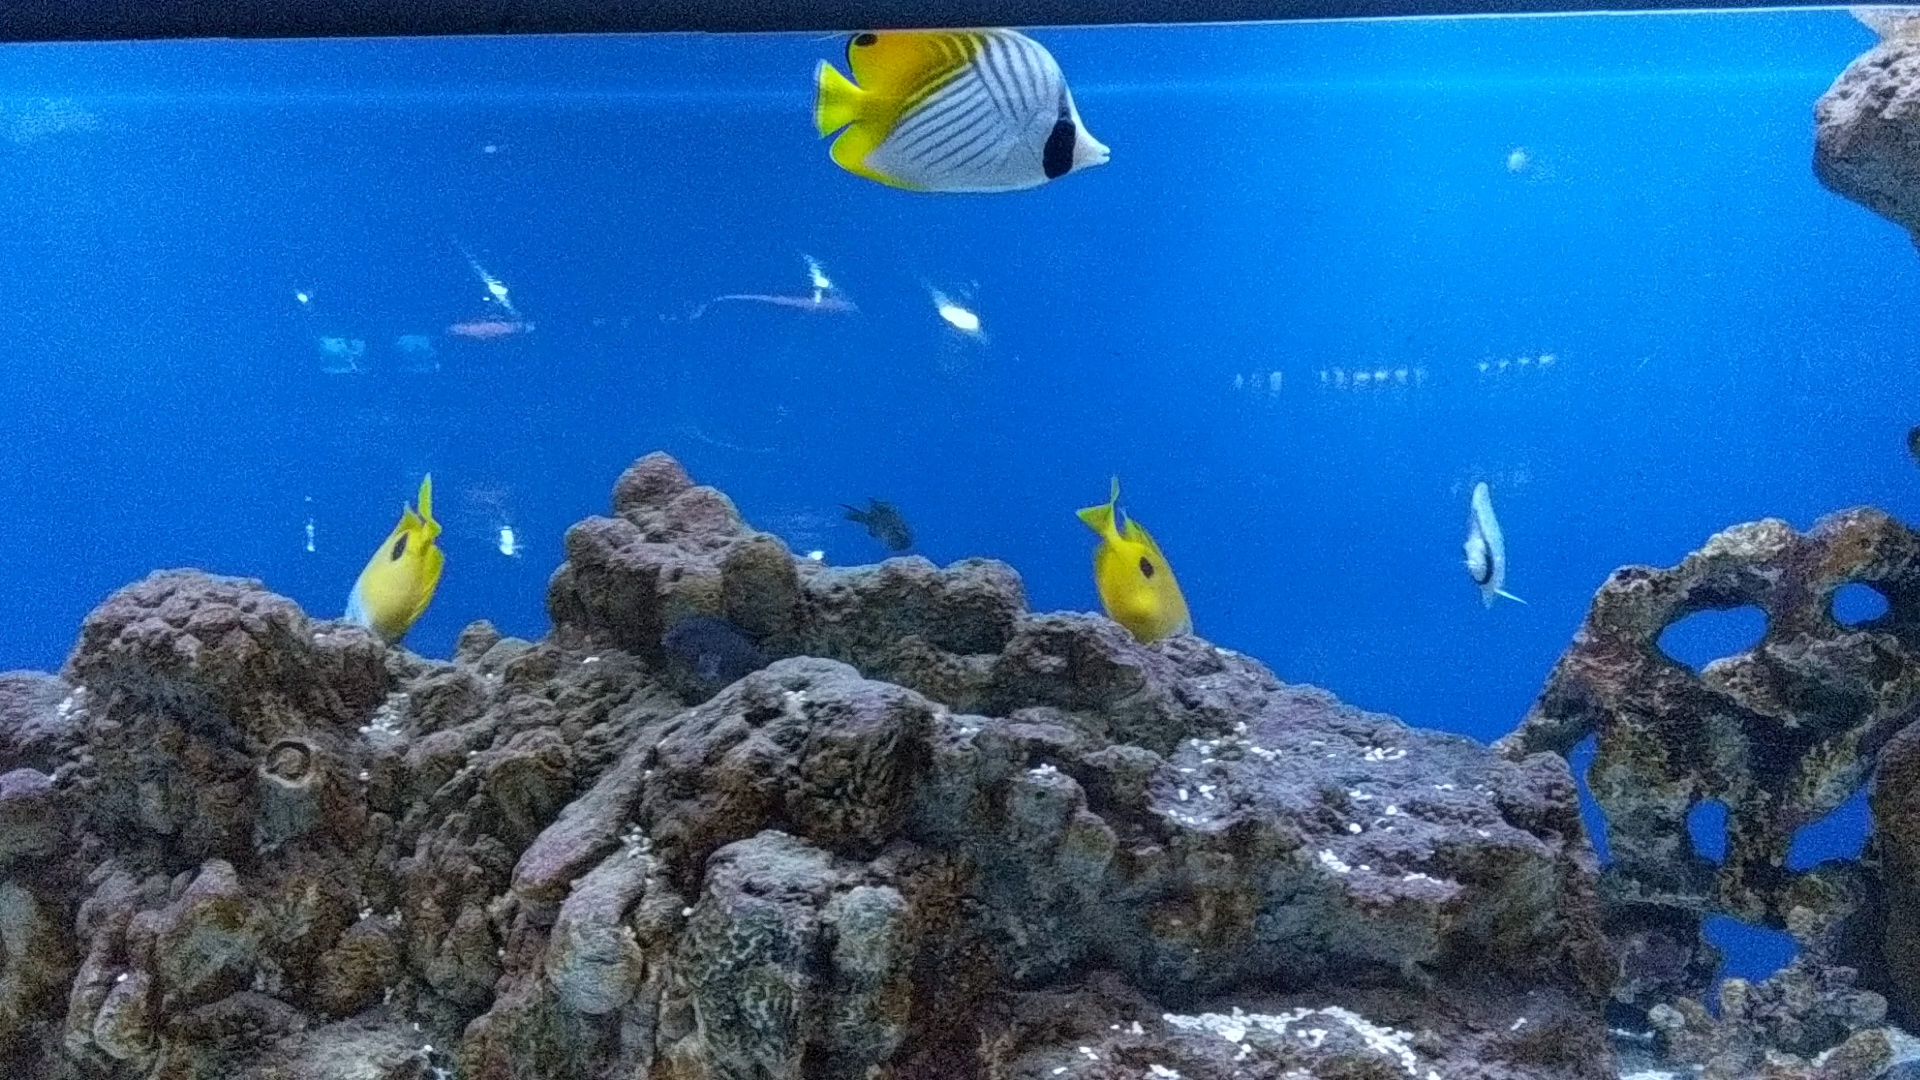butterflyfish: (800, 30, 1114, 177), (1455, 479, 1524, 611)
rabbitfish: (344, 491, 471, 638), (1071, 502, 1199, 642)
